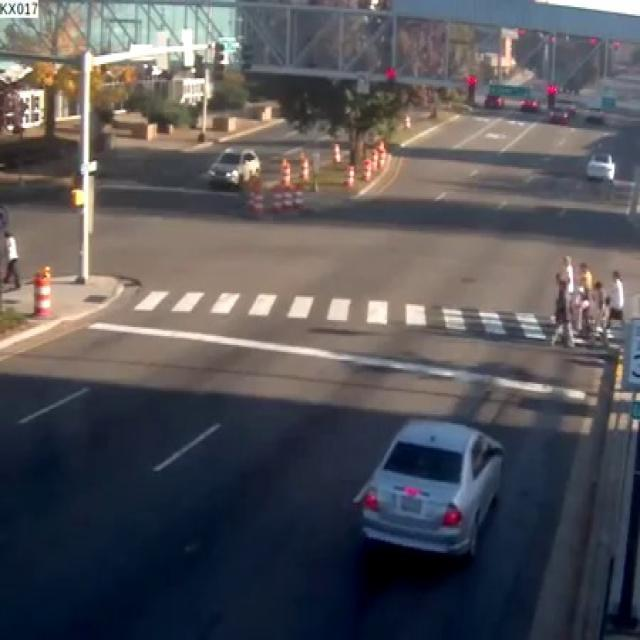car: (350, 416, 505, 564)
red_light: (464, 73, 476, 104), (544, 81, 557, 109)
stop_line: (90, 320, 585, 392)
